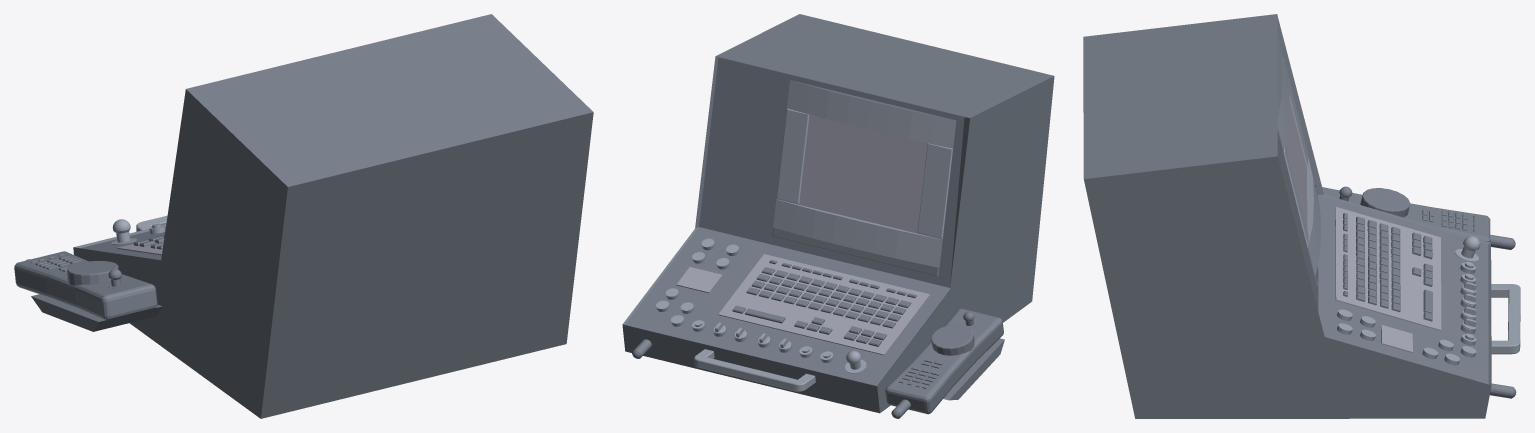
Rendered from other_cutter-machine.fbx.
3 views of the same model, side by side, from view 1: azimuth 30°, elevation 25°; view 2: azimuth 150°, elevation 25°; view 3: azimuth 270°, elevation 25° (orthographic). The views are drawn at different scales.
Parts seen in each view (by area): view 1: other.cutter-machine; view 2: other.cutter-machine; view 3: other.cutter-machine.
Part boxes in pixels (x1,y1,x2,y2): other.cutter-machine: (14, 14, 593, 418); other.cutter-machine: (622, 14, 1054, 418); other.cutter-machine: (1083, 14, 1520, 418).
Bounding box in the file's own units: 0.3064 × 0.2173 × 0.3283.
